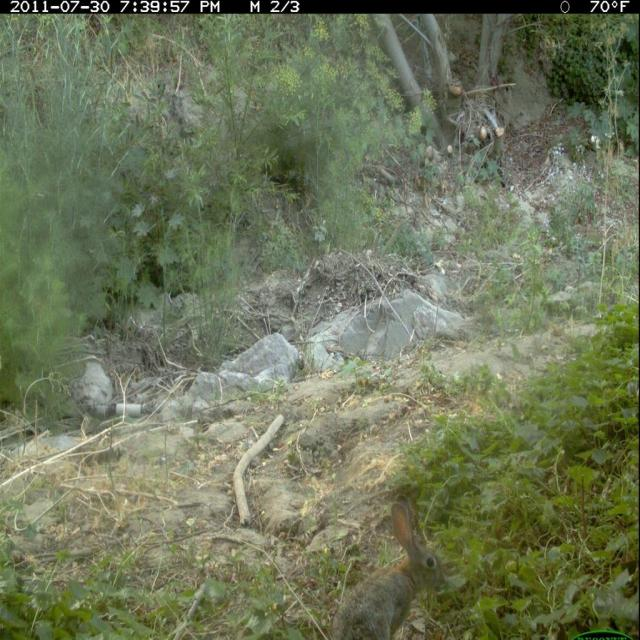rabbit: (326, 485, 452, 640)
